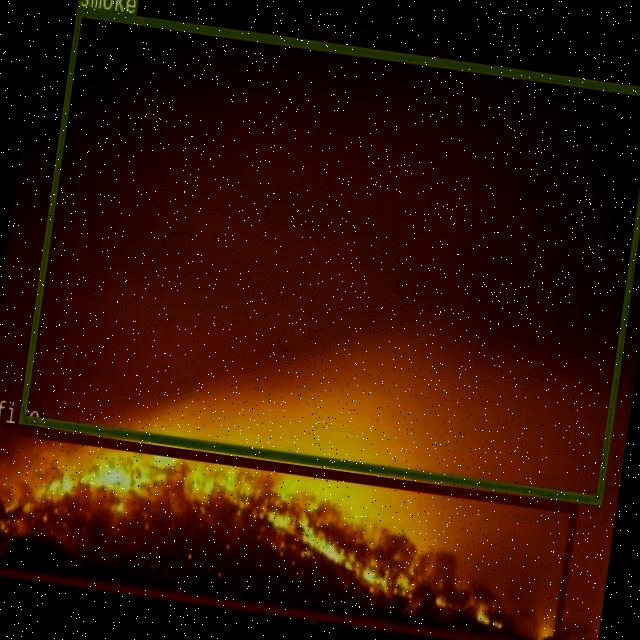fire: (0, 421, 577, 640)
smoke: (17, 7, 640, 503)
